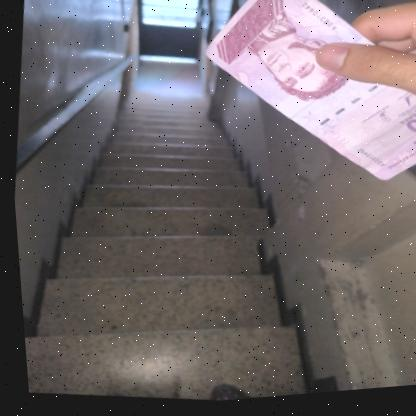one_hundred-front-vef: (184, 0, 416, 204)
